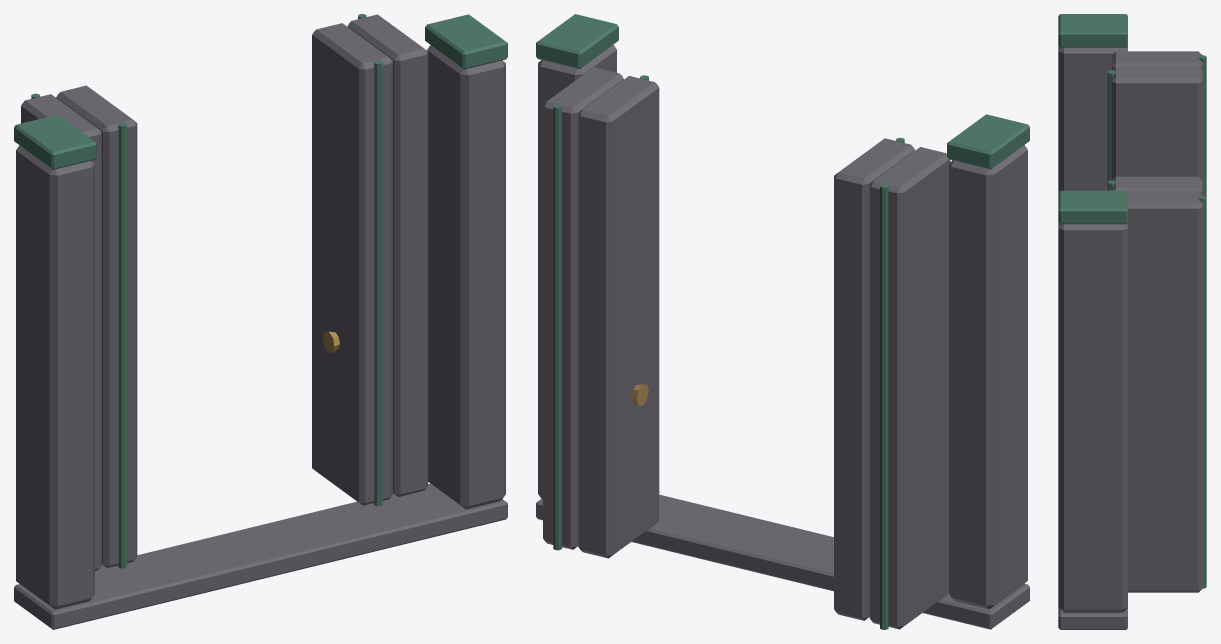
Rendered from Bld_Lab_FoldWall_4m_Open.glb.
3 renders of one model, left to right at view 1: azimuth 30°, elevation 25°; view 2: azimuth 150°, elevation 25°; view 3: azimuth 270°, elevation 25°, orthographic. The views are drawn at different scales.
Visible parts, largest first — view 1: Bld_Lab_FoldWall_4m_Open, Bld_Lab_FoldWall_4m_Open_Panel2, Bld_Lab_FoldWall_4m_Open_Panel1, Bld_Lab_FoldWall_4m_Open_Panel3, Bld_Lab_FoldWall_4m_Open_Panel0; view 2: Bld_Lab_FoldWall_4m_Open, Bld_Lab_FoldWall_4m_Open_Panel2, Bld_Lab_FoldWall_4m_Open_Panel0, Bld_Lab_FoldWall_4m_Open_Panel3, Bld_Lab_FoldWall_4m_Open_Panel1; view 3: Bld_Lab_FoldWall_4m_Open, Bld_Lab_FoldWall_4m_Open_Panel3, Bld_Lab_FoldWall_4m_Open_Panel1, Bld_Lab_FoldWall_4m_Open_Panel0, Bld_Lab_FoldWall_4m_Open_Panel2.
Boxes of the visible parts, left/top/right/bottom form: Bld_Lab_FoldWall_4m_Open: left=14, top=14, right=507, bottom=629; Bld_Lab_FoldWall_4m_Open_Panel2: left=312, top=23, right=392, bottom=506; Bld_Lab_FoldWall_4m_Open_Panel1: left=56, top=85, right=137, bottom=568; Bld_Lab_FoldWall_4m_Open_Panel3: left=347, top=14, right=428, bottom=496; Bld_Lab_FoldWall_4m_Open_Panel0: left=21, top=93, right=101, bottom=570; Bld_Lab_FoldWall_4m_Open: left=536, top=14, right=1029, bottom=629; Bld_Lab_FoldWall_4m_Open_Panel2: left=578, top=75, right=659, bottom=558; Bld_Lab_FoldWall_4m_Open_Panel0: left=869, top=147, right=950, bottom=629; Bld_Lab_FoldWall_4m_Open_Panel3: left=543, top=67, right=623, bottom=550; Bld_Lab_FoldWall_4m_Open_Panel1: left=834, top=137, right=914, bottom=620; Bld_Lab_FoldWall_4m_Open: left=1058, top=14, right=1127, bottom=629; Bld_Lab_FoldWall_4m_Open_Panel3: left=1127, top=191, right=1206, bottom=592; Bld_Lab_FoldWall_4m_Open_Panel1: left=1107, top=66, right=1202, bottom=181; Bld_Lab_FoldWall_4m_Open_Panel0: left=1112, top=51, right=1206, bottom=196; Bld_Lab_FoldWall_4m_Open_Panel2: left=1107, top=176, right=1202, bottom=195.
Size of what is drawn, in the model's own units: 4 by 4 by 1.28.
